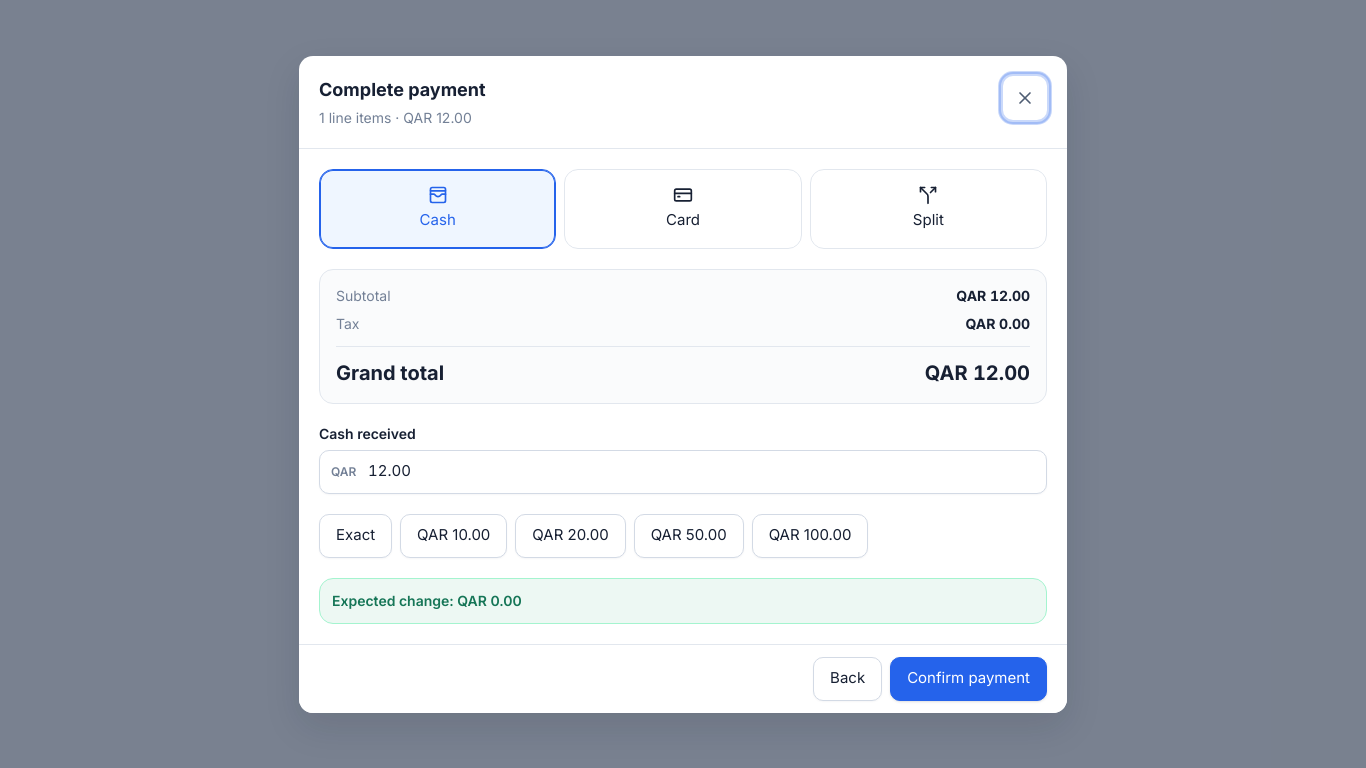
Test: PaymentDialog › shows inventory conflict and keeps the draft available
Step 1. Click the button "Confirm payment" → (969,678), box left=890, top=656, right=1047, bottom=700
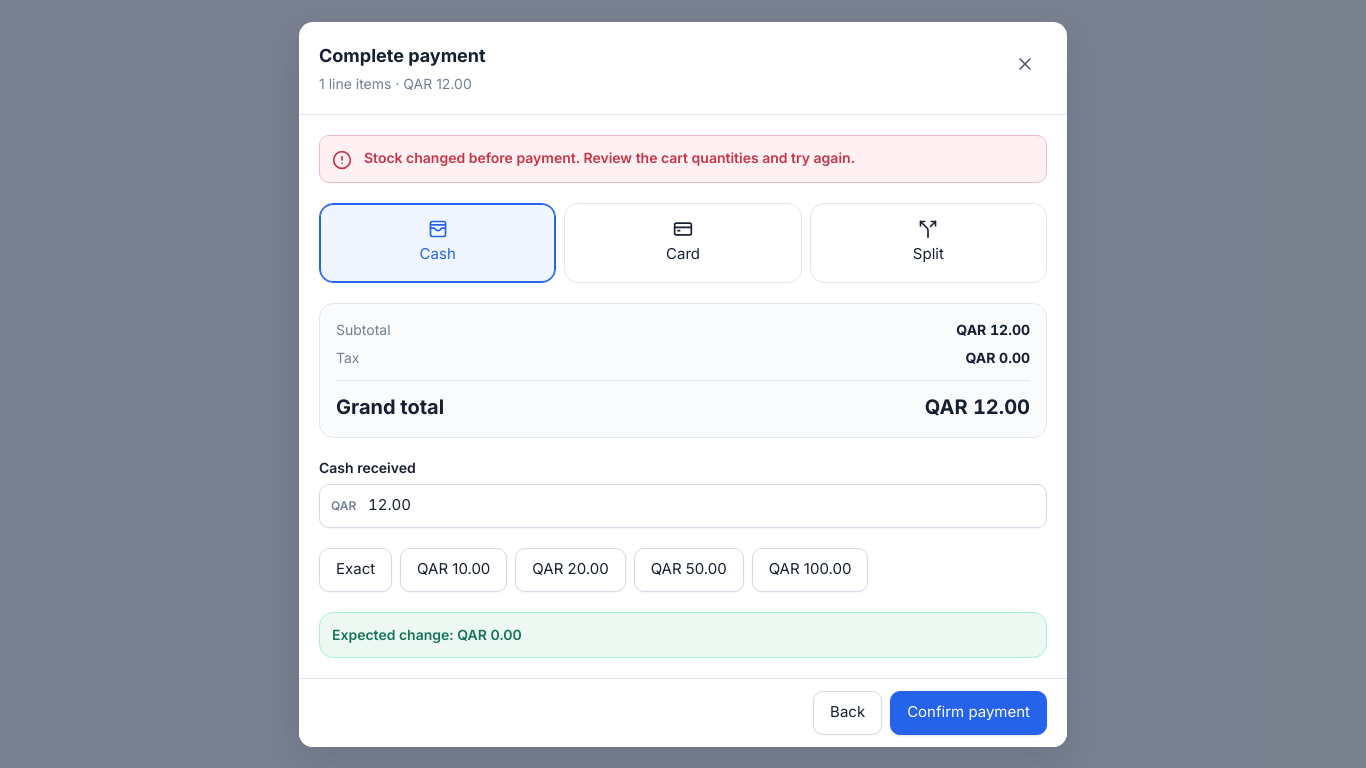
Expected: the text "Stock changed before payment. Review the cart quantities and try again." is shown, left=364, top=148, right=855, bottom=168
